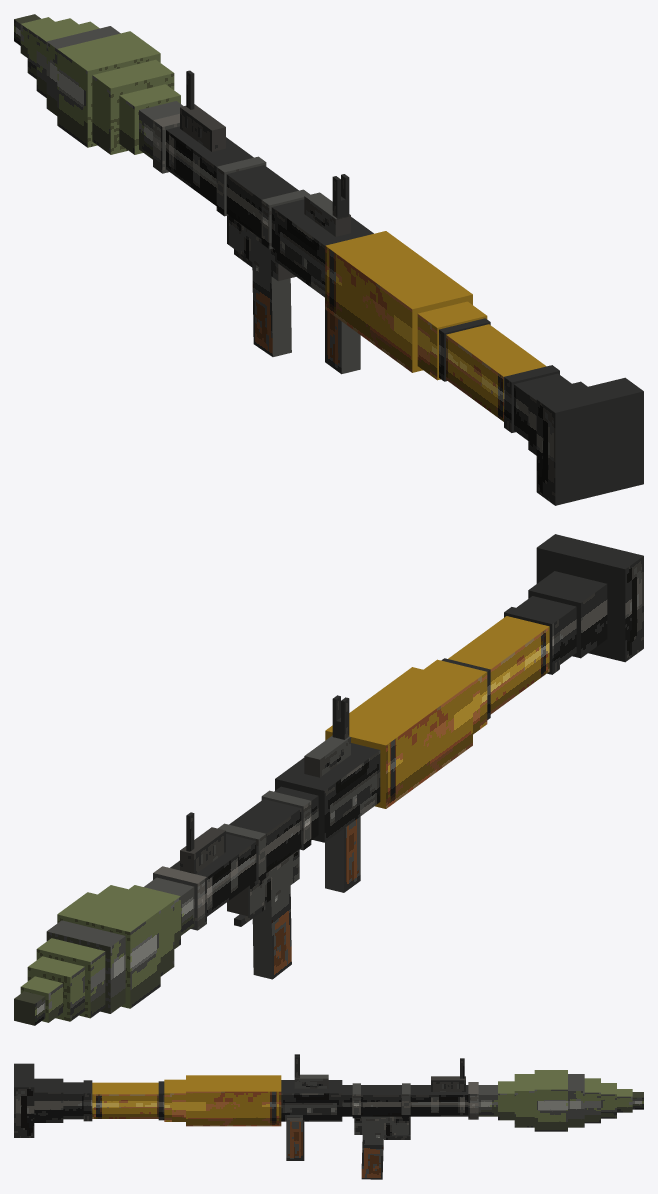
File: rpg7.glb
3 renders of one model, top to bottom at view 1: azimuth 30°, elevation 25°; view 2: azimuth 150°, elevation 25°; view 3: azimuth 270°, elevation 25°, orthographic. The views are drawn at different scales.
Parts seen in each view (by area): view 1: exhaust_flare, heat_guard, warhead, tube_front, warhead_max, heat_guard_rear, tube_middle, trigger_grip, heat_guard_step, second_grip, trigger_housing, front_sight_base (+9 smaller); view 2: heat_guard, warhead, exhaust_flare, tube_front, warhead_max, heat_guard_rear, tube_middle, venturi, trigger_grip, second_grip, trigger_housing, tube_rear (+9 smaller); view 3: heat_guard, warhead, tube_front, heat_guard_rear, tube_middle, warhead_max, exhaust_flare, venturi, trigger_housing, trigger_grip, heat_guard_step, tube_rear (+10 smaller).
Boxes of the visible parts, x1,y1,x2,y2 form: exhaust_flare: (536,377,643,505); heat_guard: (325,231,472,372); warhead: (20,17,180,154); tube_front: (166,126,304,248); warhead_max: (57,31,160,147); heat_guard_rear: (446,324,546,421); tube_middle: (275,202,373,297); trigger_grip: (252,262,291,356); heat_guard_step: (417,301,487,380); second_grip: (325,298,360,374); trigger_housing: (227,215,295,280); front_sight_base: (180,104,225,151); heat_guard: (325,667,472,808); warhead: (20,885,180,1022); exhaust_flare: (536,534,643,662); tube_front: (170,786,318,916); warhead_max: (57,892,160,1008); heat_guard_rear: (448,616,549,714); tube_middle: (275,743,380,842); venturi: (528,571,607,658); trigger_grip: (252,885,291,979); second_grip: (325,816,360,892); trigger_housing: (227,849,299,916); tube_rear: (516,596,576,664); heat_guard: (186,1075,281,1126); warhead: (498,1074,632,1127); tube_front: (342,1085,468,1116); heat_guard_rear: (92,1082,158,1118); tube_middle: (281,1080,342,1121); warhead_max: (534,1070,567,1131); exhaust_flare: (14,1063,34,1137); venturi: (34,1078,63,1122); trigger_housing: (354,1116,410,1134); trigger_grip: (361,1135,383,1179); heat_guard_step: (164,1079,185,1121); tube_rear: (63,1082,83,1119).
Bounding box in the file's own units: 0.1168 × 0.2787 × 1.31.
1 material, 1 textured.
